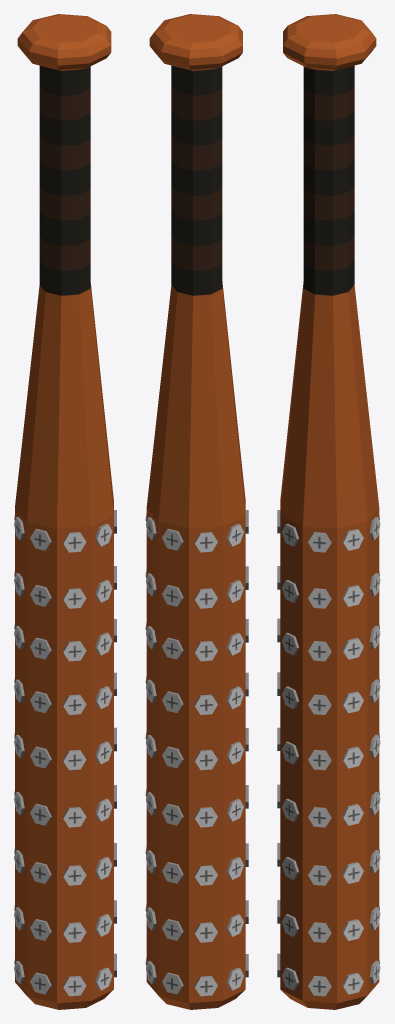
Rendered from TrenchBat.fbx.
The picture shows the model from 3 angles, left to right: view 1: azimuth 30°, elevation 25°; view 2: azimuth 150°, elevation 25°; view 3: azimuth 330°, elevation 25°; orthographic projection.
Parts seen in each view (by area): view 1: ZomboidTrenchBat; view 2: ZomboidTrenchBat; view 3: ZomboidTrenchBat.
Boxes of the visible parts, x1,y1,x2,y2 form: ZomboidTrenchBat: (14, 14, 116, 1009); ZomboidTrenchBat: (145, 14, 248, 1009); ZomboidTrenchBat: (277, 14, 380, 1009).
Bounding box in the file's own units: 0.0506 × 0.5216 × 0.0498.
